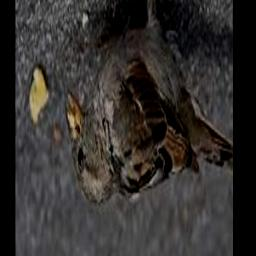Sparrow: (64, 0, 233, 207)
